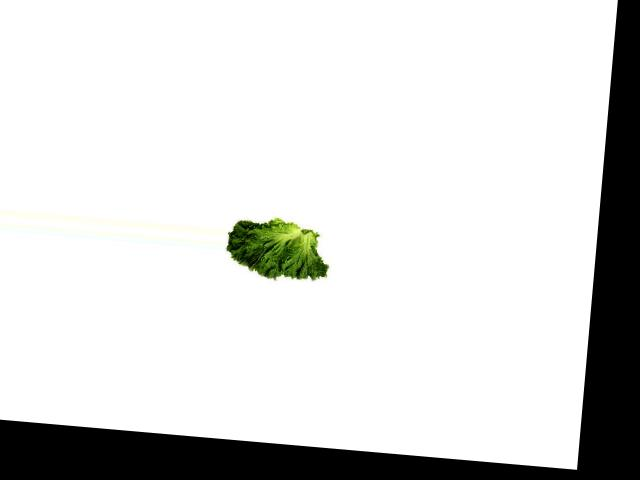lettuce: (222, 210, 332, 291)
